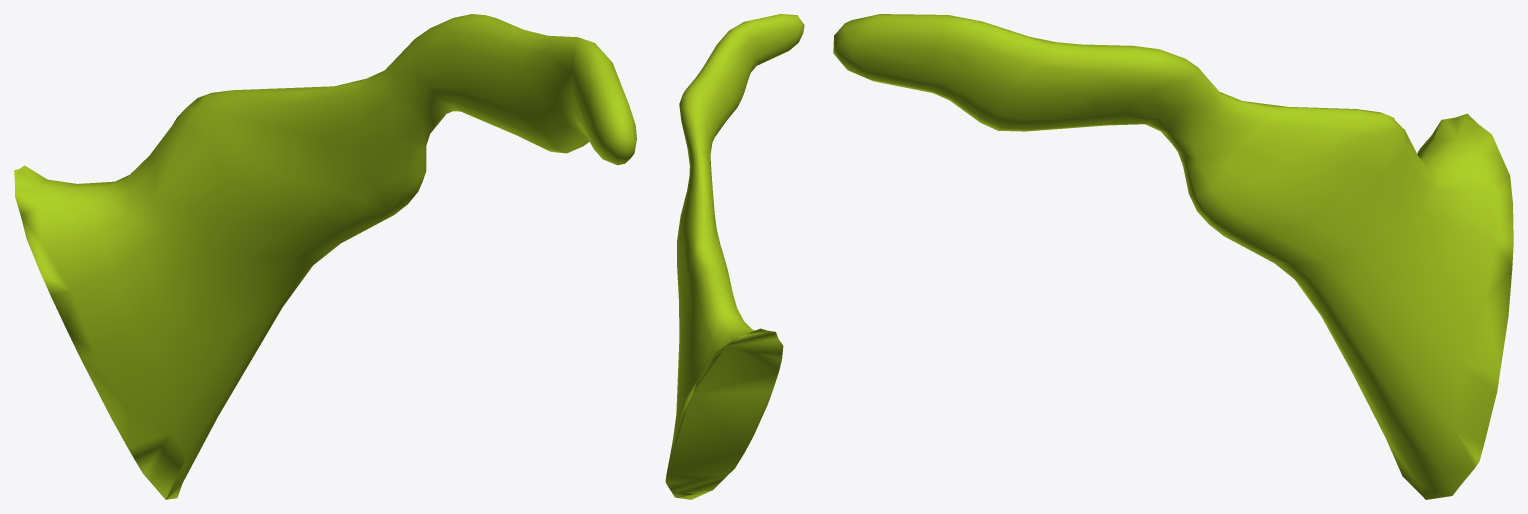
File: VitellineDuct_Puzzle.fbx
3 views of the same model, side by side, from view 1: azimuth 30°, elevation 25°; view 2: azimuth 150°, elevation 25°; view 3: azimuth 270°, elevation 25° (orthographic). The views are drawn at different scales.
Parts seen in each view (by area): view 1: Vitelline_duct; view 2: Vitelline_duct; view 3: Vitelline_duct.
Part boxes in pixels (<box>): Vitelline_duct: <box>14,14,636,499</box>; Vitelline_duct: <box>665,14,804,499</box>; Vitelline_duct: <box>833,14,1513,499</box>.
Size of the model in its own units: 1.95 by 3.25 by 3.61.
